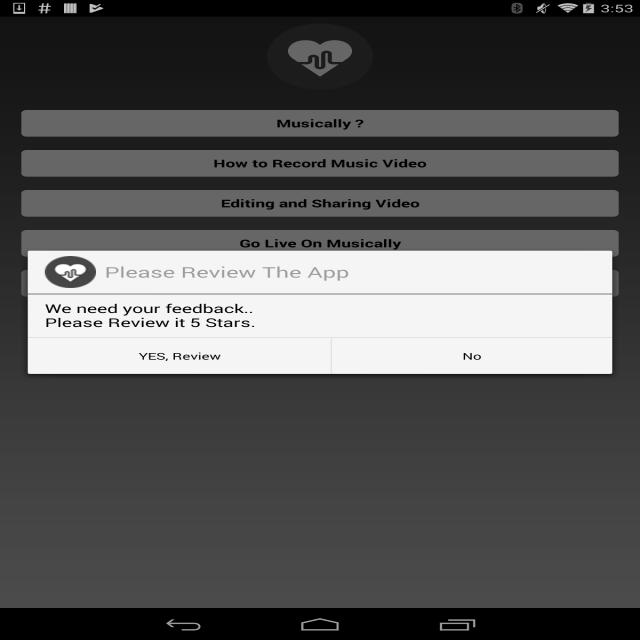Button: (17, 186, 625, 222), (17, 104, 626, 139), (17, 146, 627, 180)
ImageView: (250, 29, 393, 93), (33, 252, 100, 290)
TextView: (37, 298, 278, 333), (108, 262, 367, 280), (133, 341, 231, 361), (451, 350, 498, 362)
